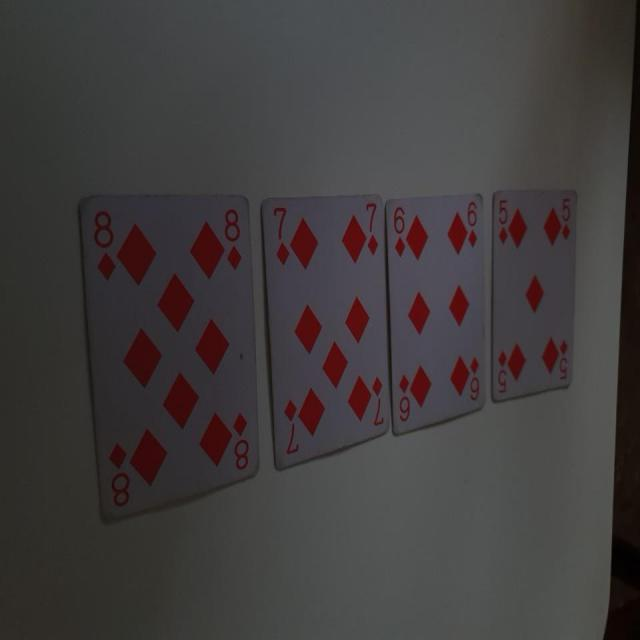5 of diamonds: (488, 185, 583, 408)
6 of diamonds: (388, 192, 491, 439)
7 of diamonds: (260, 194, 394, 470)
8 of diamonds: (73, 194, 260, 522)
